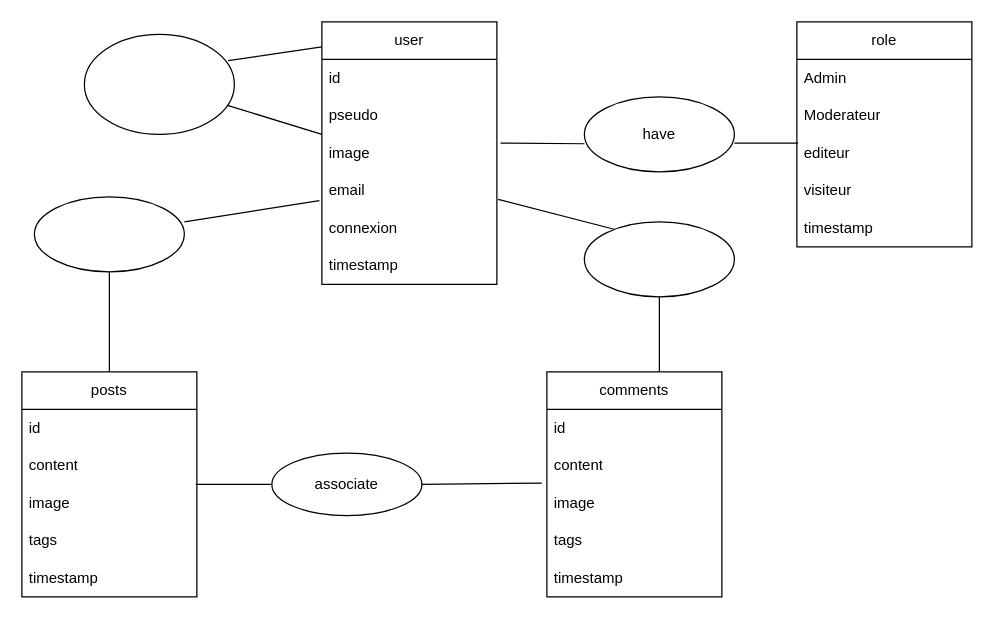
Some shapes in this 994 by 619 pixel diagram are drawn without their labels. The shapes that lost their labels are listed below. From the top down, each one's centre as x and y in pixels, then its label:
At point 158,83: "follow".
At point 108,234: "read / write /like".
At point 658,259: "read / write / like".
